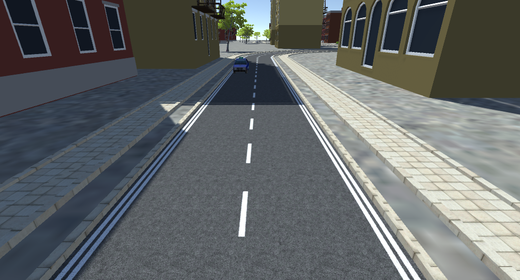centerstrip: (226, 81, 263, 266)
sidestripe: (60, 83, 221, 277), (279, 66, 417, 277)
